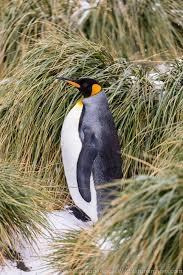king: (43, 56, 147, 239)
